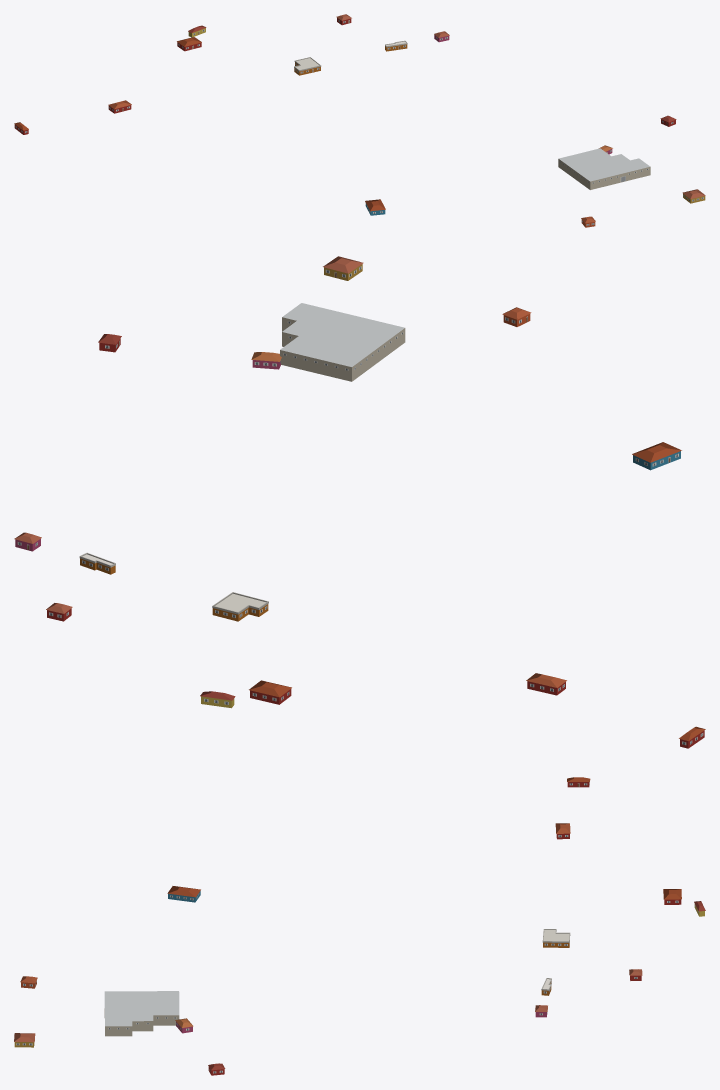
File: msb_sannicolas_18_22.glb
3 views of the same model, one above another, from view 1: azimuth 30°, elevation 25°; view 2: azimuth 150°, elevation 25°; view 3: azimuth 270°, elevation 25° (orthographic). The views are drawn at different scales.
Parts seen in each view (by area): view 1: msb_sannicolas_18_22_lod0; view 2: msb_sannicolas_18_22_lod0; view 3: msb_sannicolas_18_22_lod0.
Boxes of the visible parts, <box> form: msb_sannicolas_18_22_lod0: <box>14,14,705,227</box>; msb_sannicolas_18_22_lod0: <box>14,256,705,748</box>; msb_sannicolas_18_22_lod0: <box>14,777,705,1075</box>.
Size of what is drawn, in the model's own units: 387 by 13.65 by 390.
3 materials, 1 textured.
